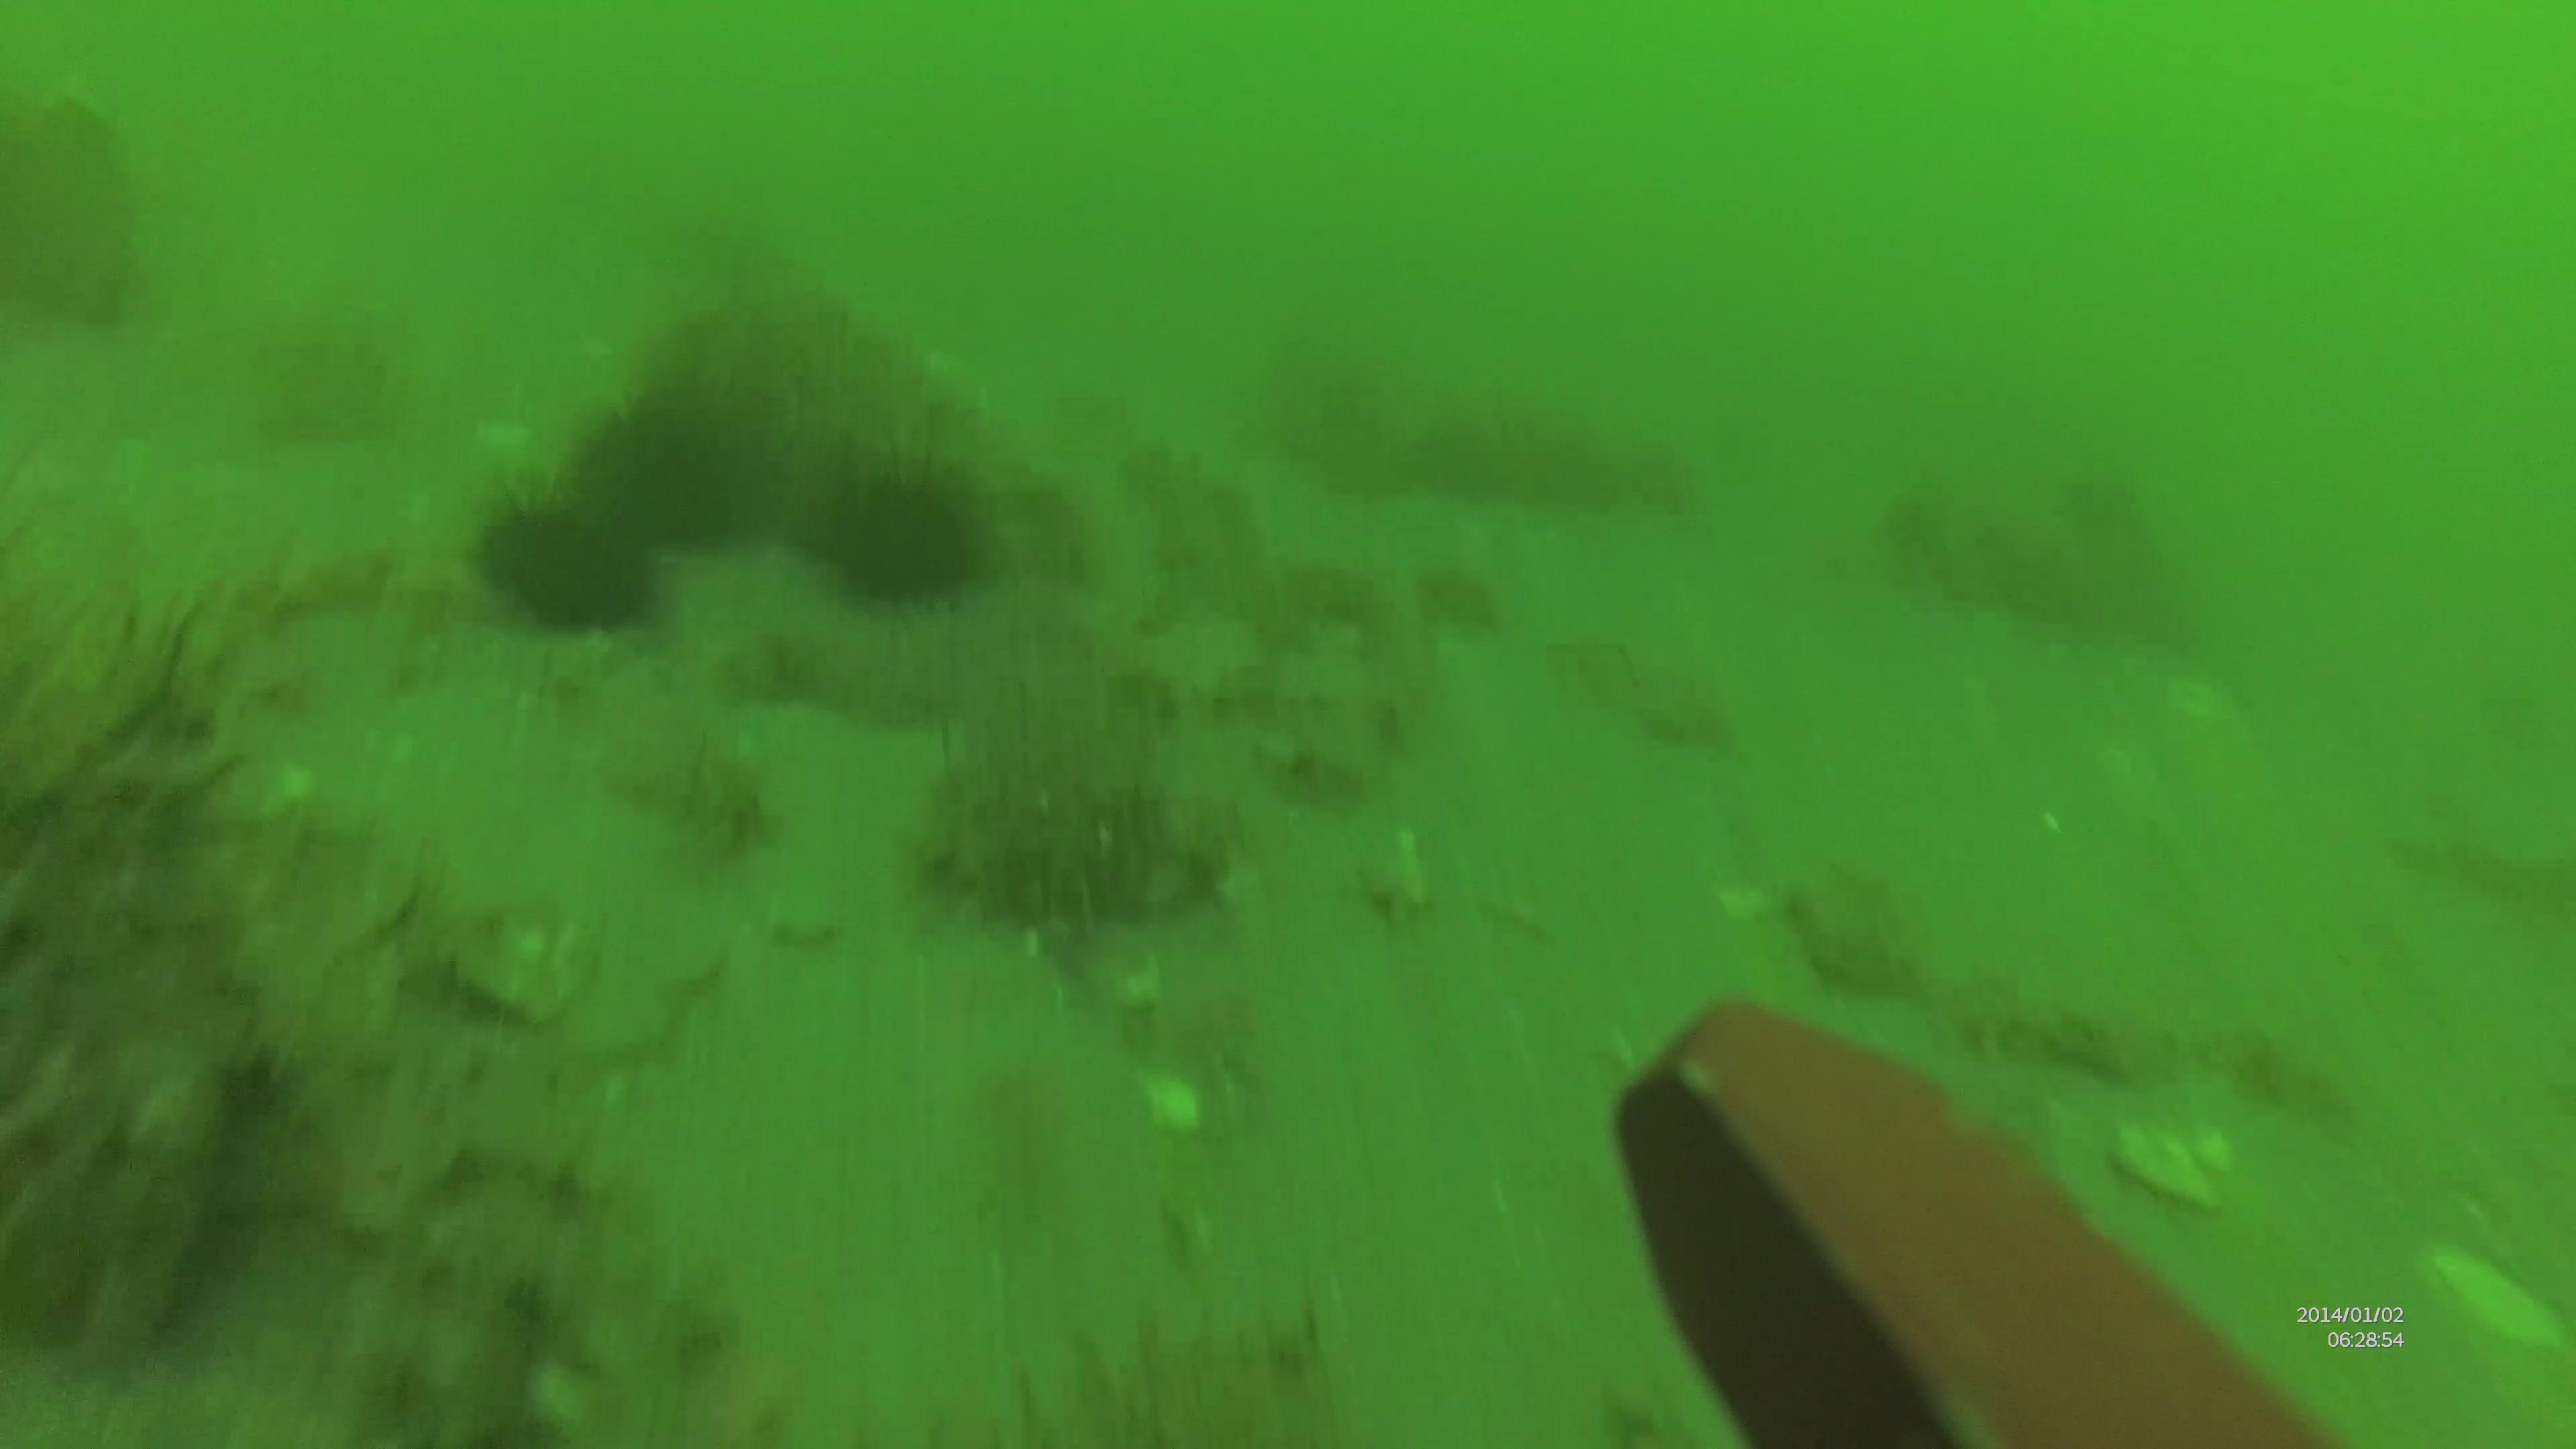echinus: (559, 403, 770, 548), (826, 455, 989, 605), (492, 497, 662, 635)
